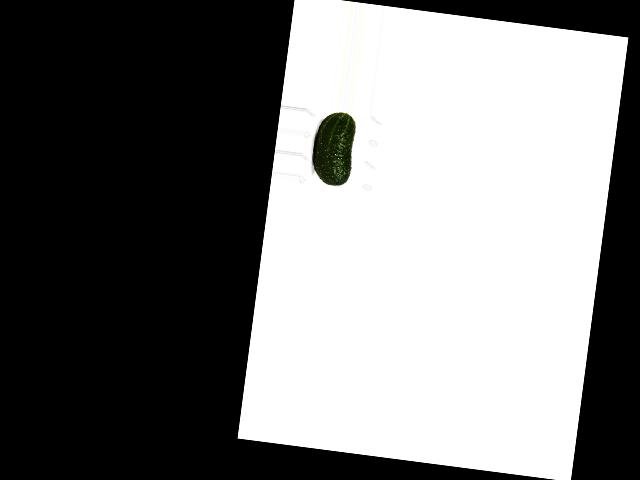cucumber: (309, 109, 356, 187)
